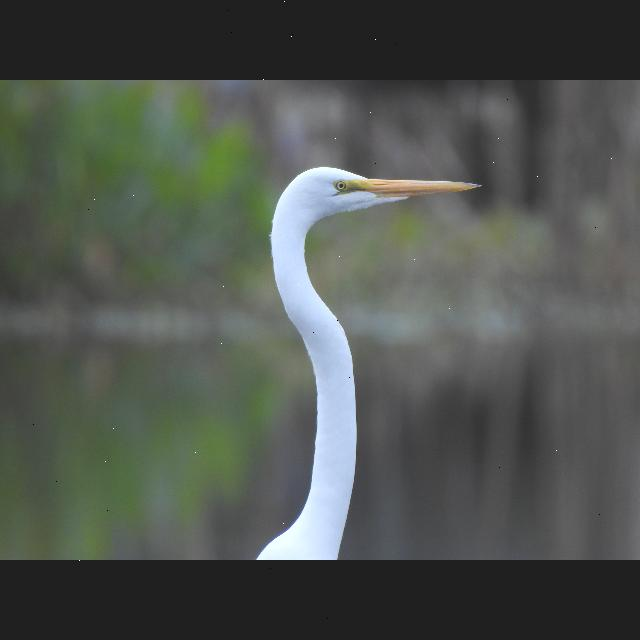egret: (202, 162, 492, 560)
